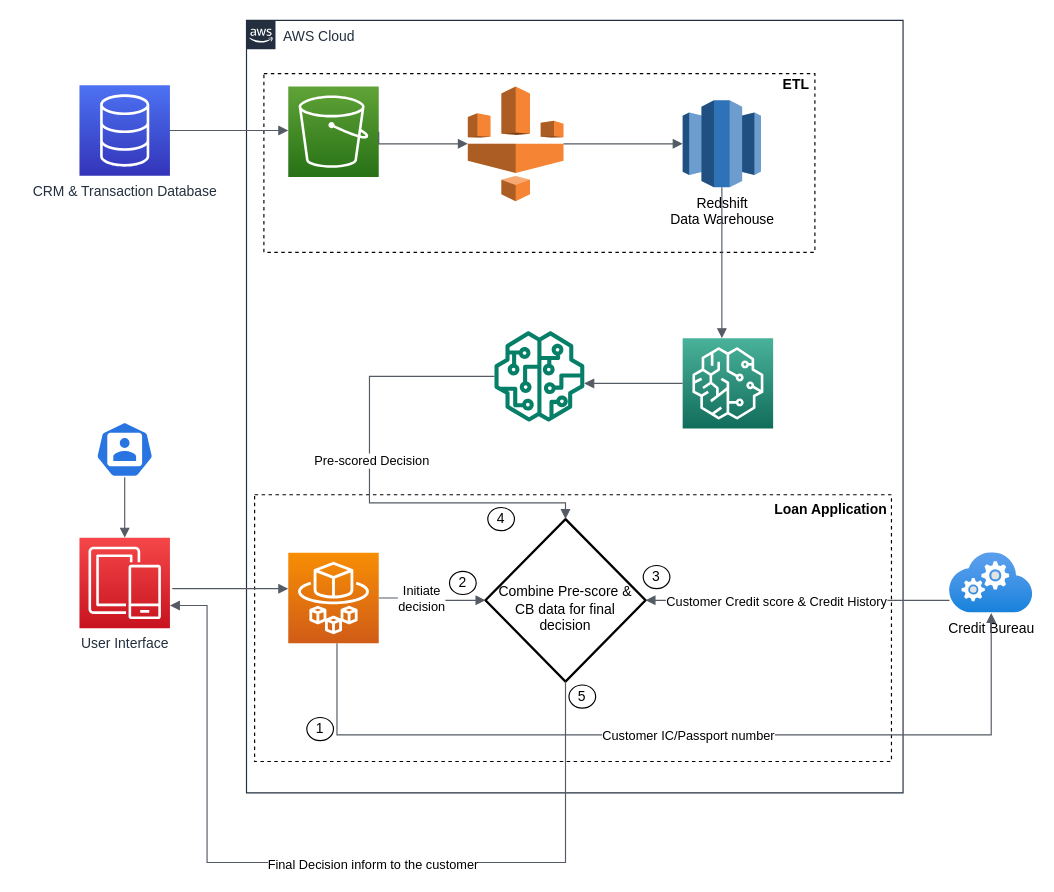
This 1054x892 diagram has some shape labels left out. Here are the shapes that lost their labels. From the top down, the centre of each, then its label:
(333,131): S3 landing zone
(515,143): Glue Data processing pipeline
(539,376): Trained model Pre Scored customer data according to internal data
(727,383): SageMaker Train Model
(124,448): User applying for loan/Credit Card
(333,597): AWS Fargate customer onboarding Apps
